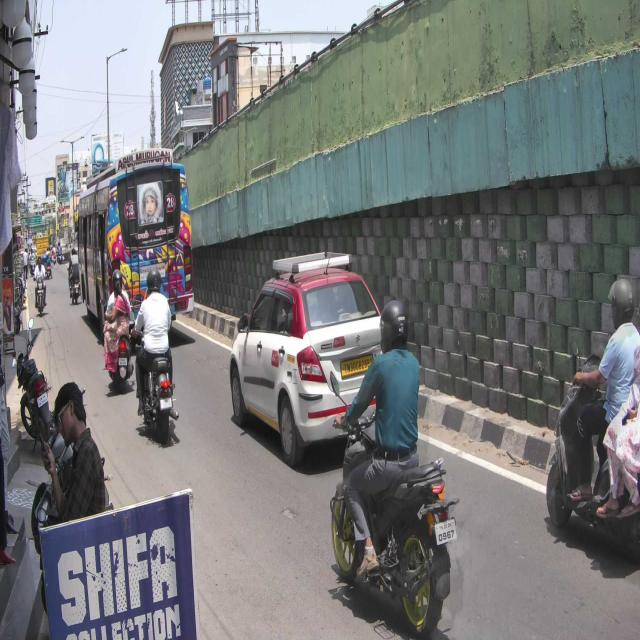single_rider: (330, 295, 461, 635), (131, 264, 179, 446)
